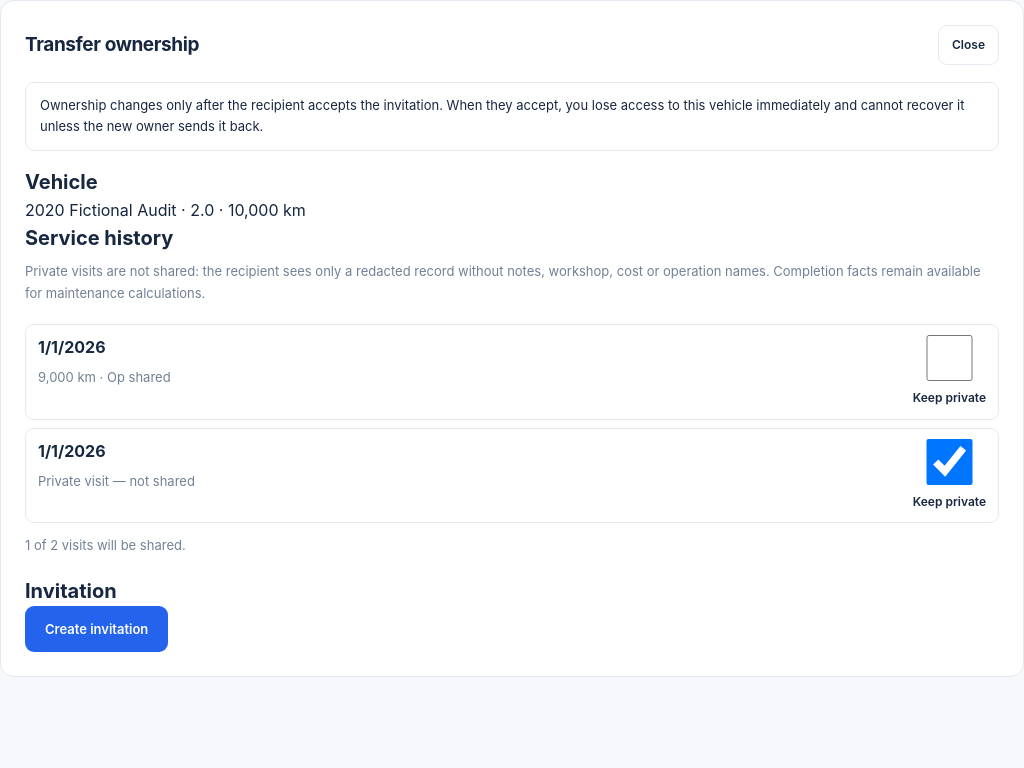
Test: updates visit privacy through the privacy API
This screenshot has width=1024, height=768.
Expected: the text "9,000 km · Op shared" is shown, x1=38 y1=367 x2=171 y2=388
Click the checkbox labelled "Keep private" in the row of "9,000" at (949, 358), box x1=913 y1=335 x2=986 y2=381
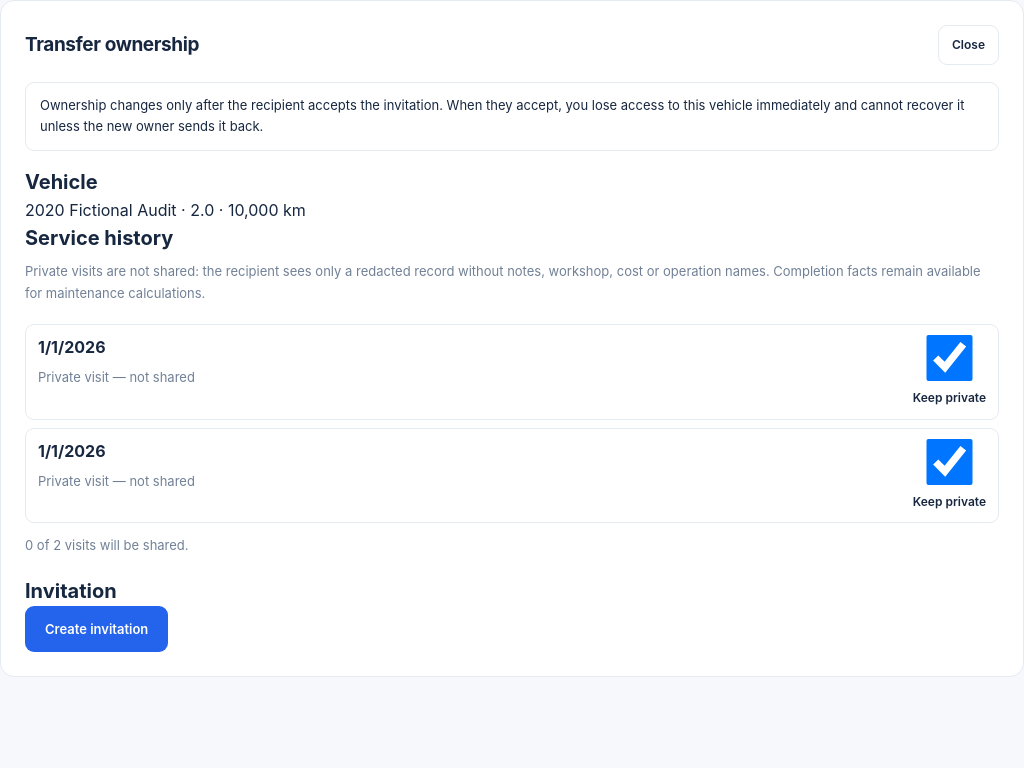
Result: the text "Op shared" is gone
